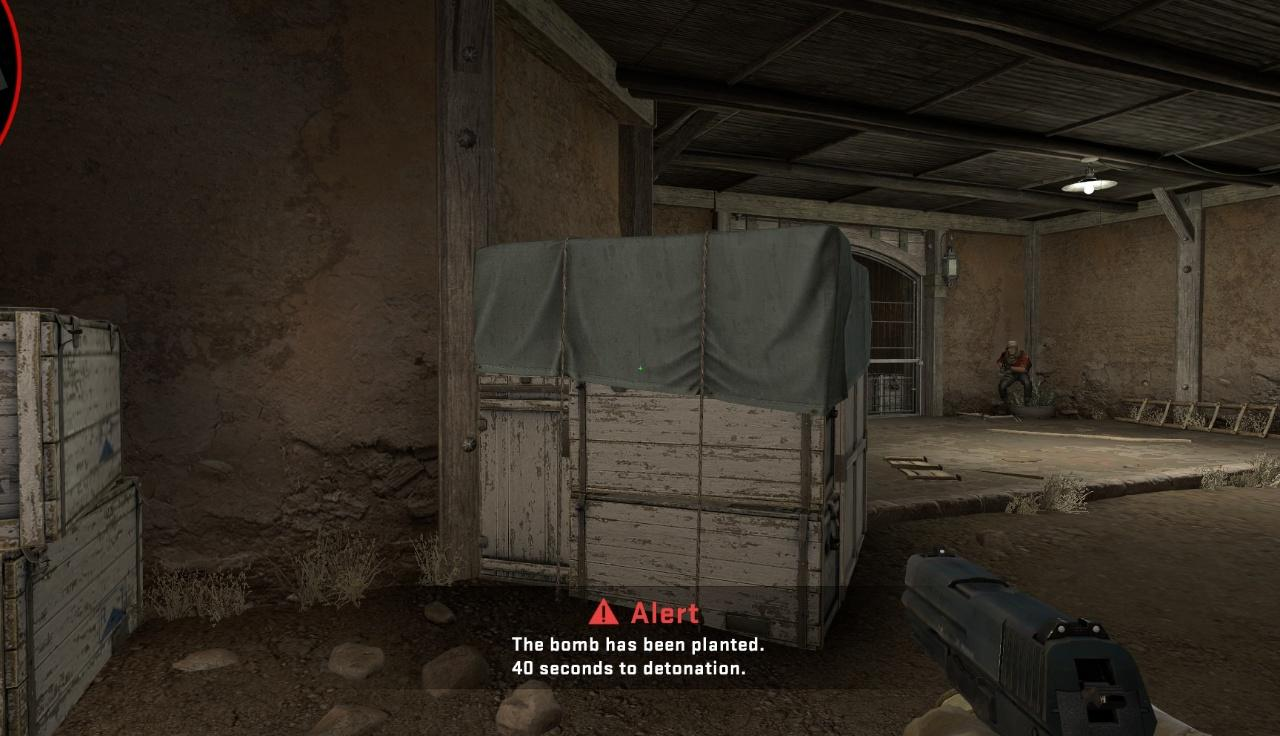pistol: (903, 548, 1239, 736)
tt: (997, 340, 1033, 407)
tthead: (1007, 340, 1018, 356)
